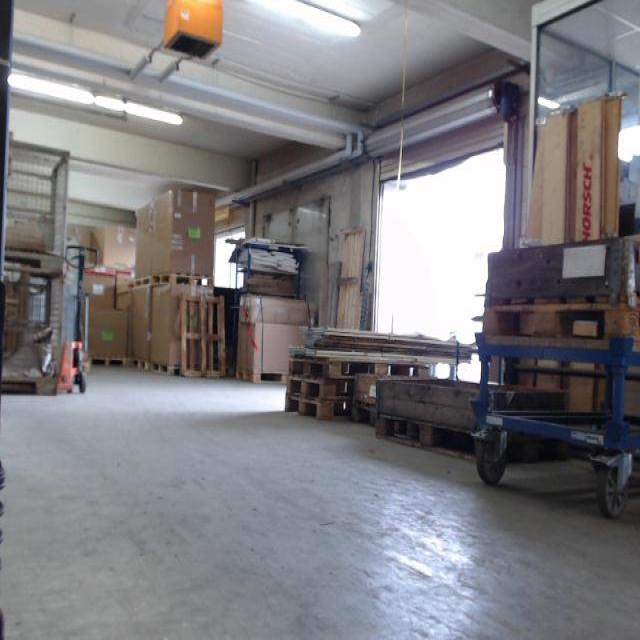pallet: (378, 413, 570, 463), (484, 301, 640, 350), (176, 295, 227, 381), (286, 355, 434, 383), (283, 380, 383, 400), (282, 395, 353, 421), (152, 269, 215, 290), (234, 369, 288, 385), (89, 353, 127, 368), (151, 359, 178, 378), (133, 274, 151, 291), (132, 356, 150, 371)
pallet_truck: (62, 244, 99, 394)
stillage: (4, 131, 71, 266), (1, 257, 63, 398)
